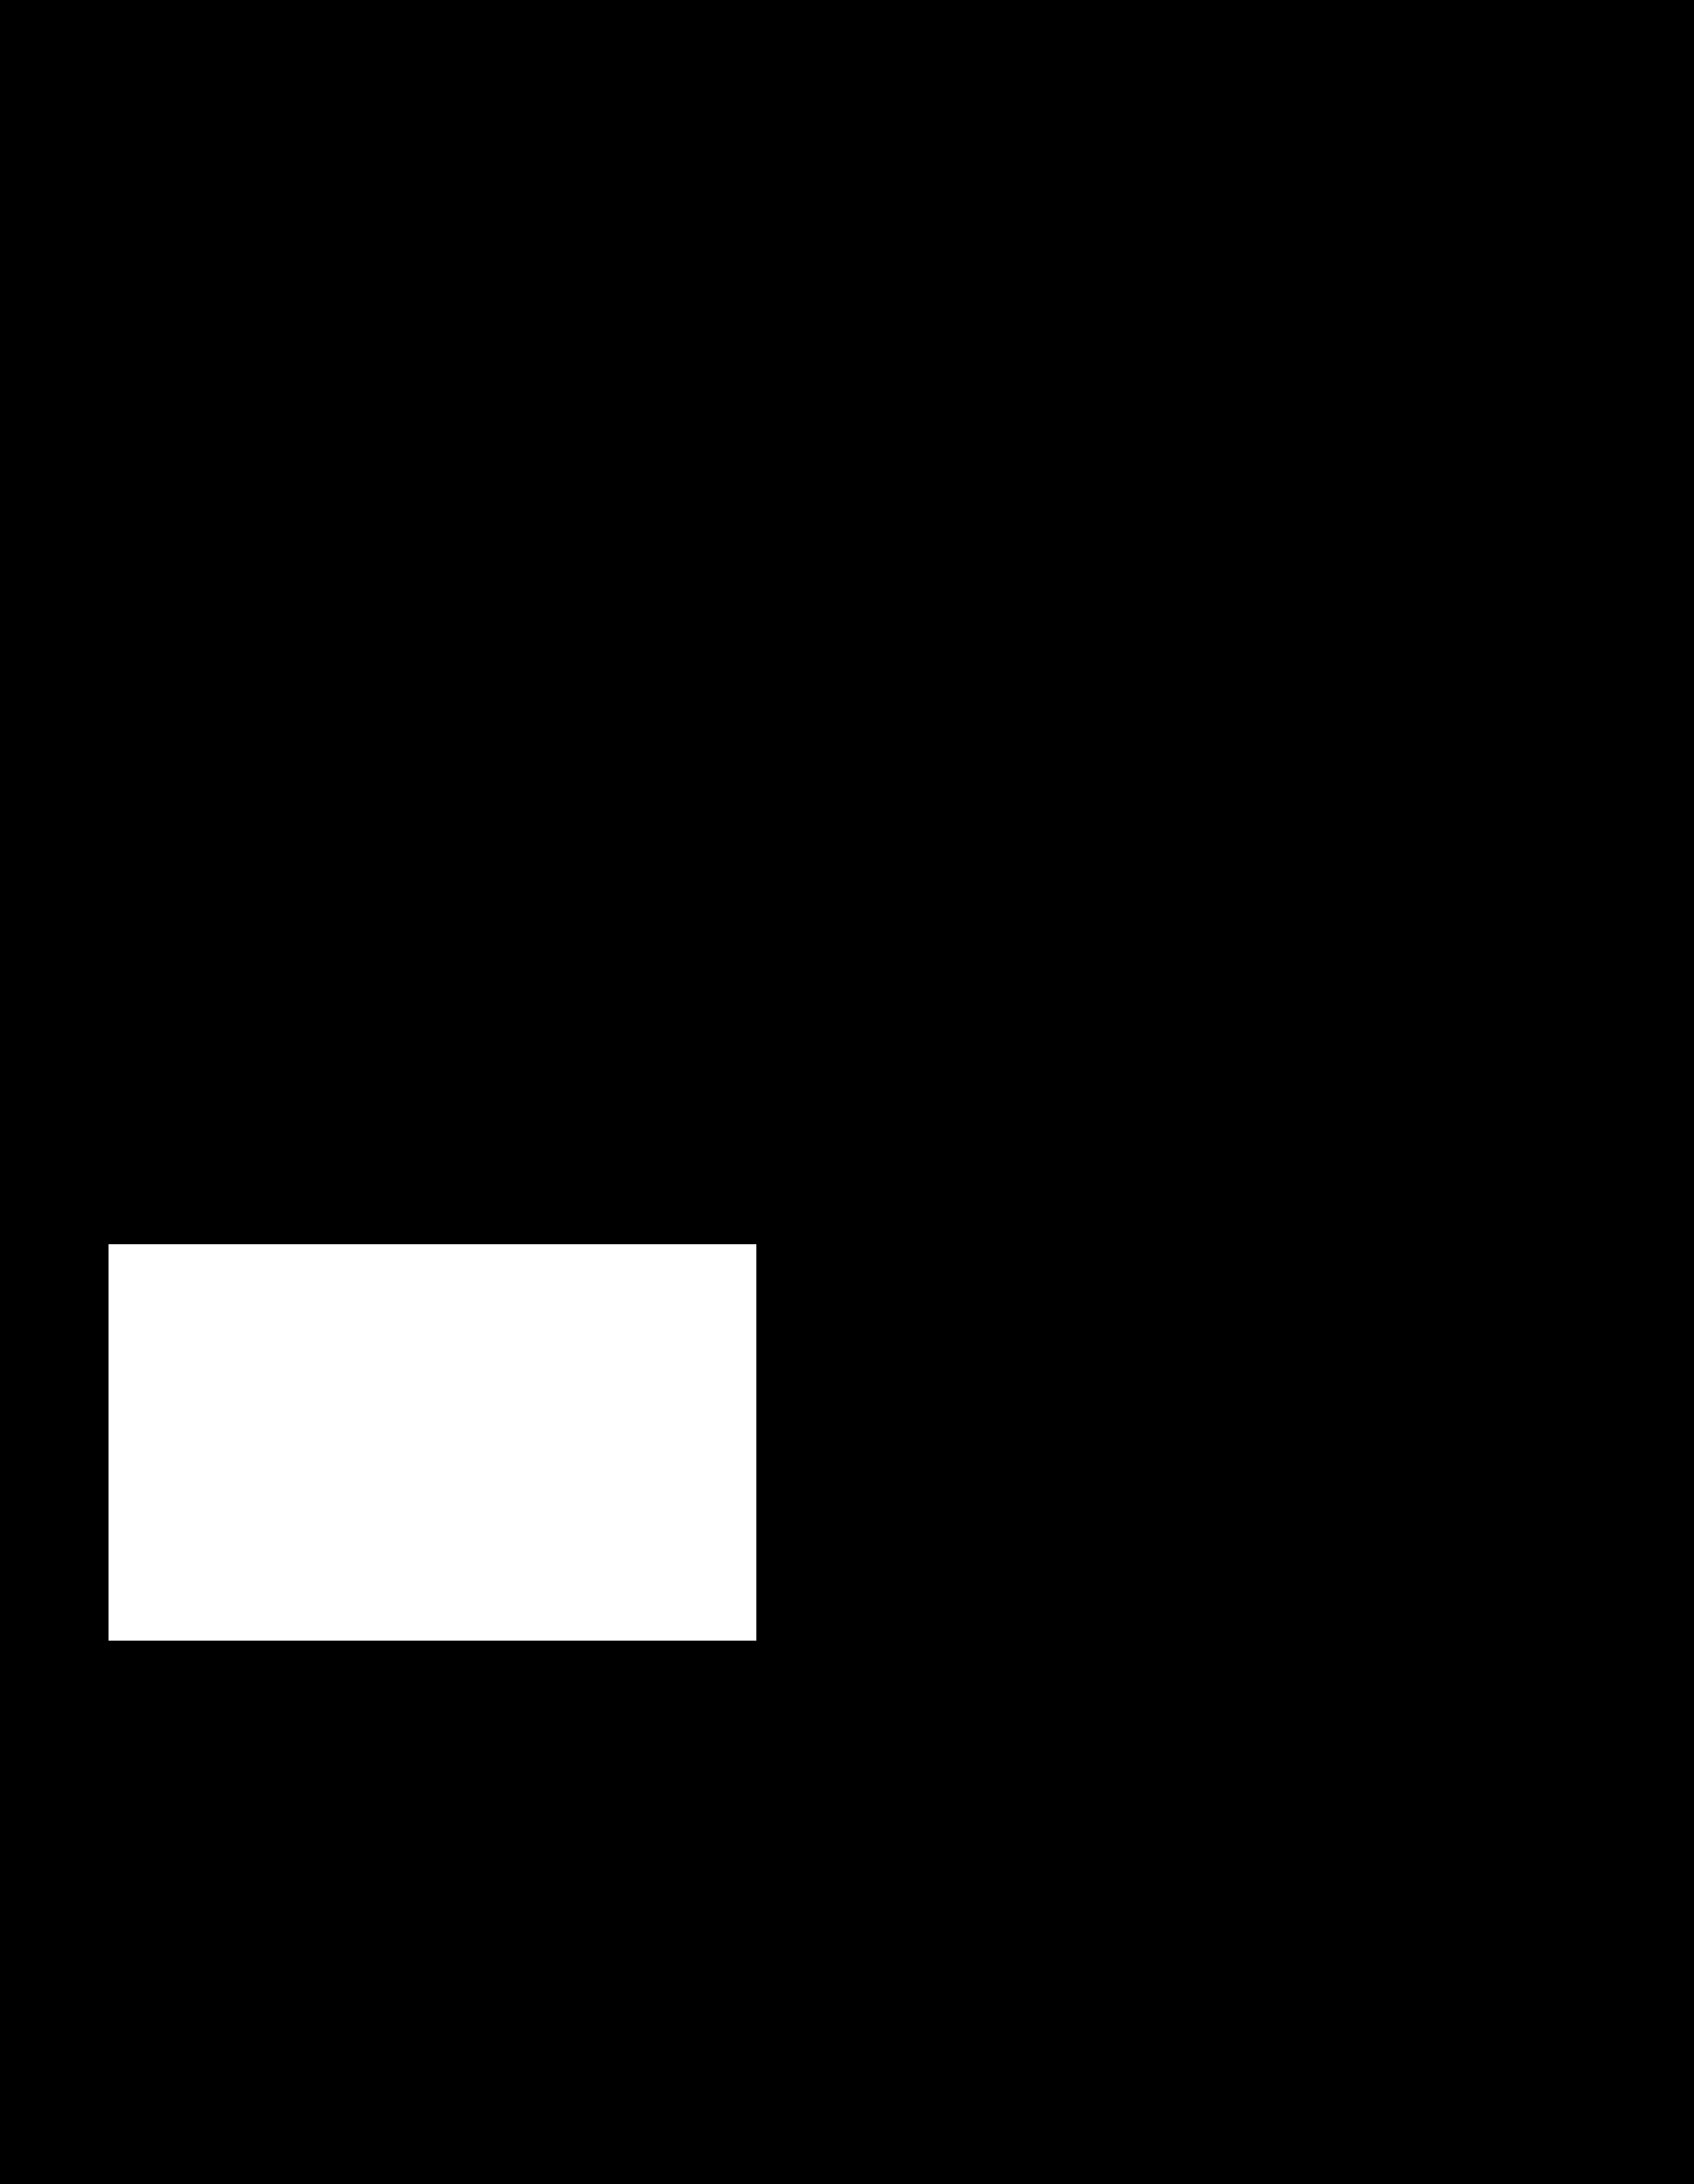table: (108, 1244, 755, 1640)
